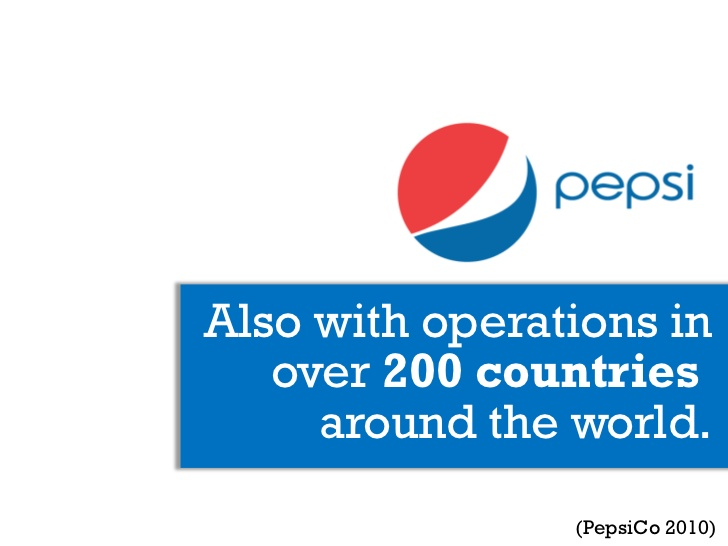pepsi: (398, 120, 537, 262)
